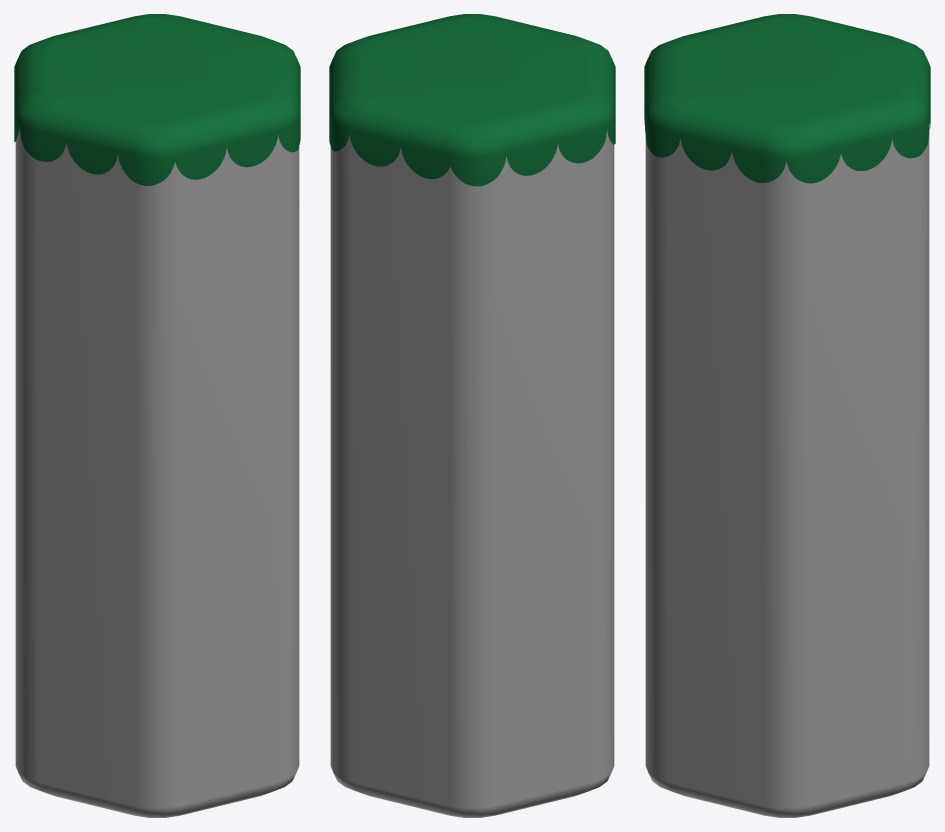
The model's file is RockEsagonMush.fbx.
3 views of the same model, side by side, from view 1: azimuth 30°, elevation 25°; view 2: azimuth 150°, elevation 25°; view 3: azimuth 270°, elevation 25° (orthographic).
Parts seen in each view (by area): view 1: pCylinder1, pCylinder2; view 2: pCylinder1, pCylinder2; view 3: pCylinder1, pCylinder2.
Part boxes in pixels (bbox=[...]): pCylinder1: bbox=[15, 127, 299, 817]; pCylinder2: bbox=[14, 14, 300, 185]; pCylinder1: bbox=[330, 129, 614, 817]; pCylinder2: bbox=[329, 14, 615, 186]; pCylinder1: bbox=[645, 133, 929, 817]; pCylinder2: bbox=[644, 14, 930, 183].
Size of the model in its own units: 2.68 by 6.5 by 2.43.
2 materials, 1 textured.
